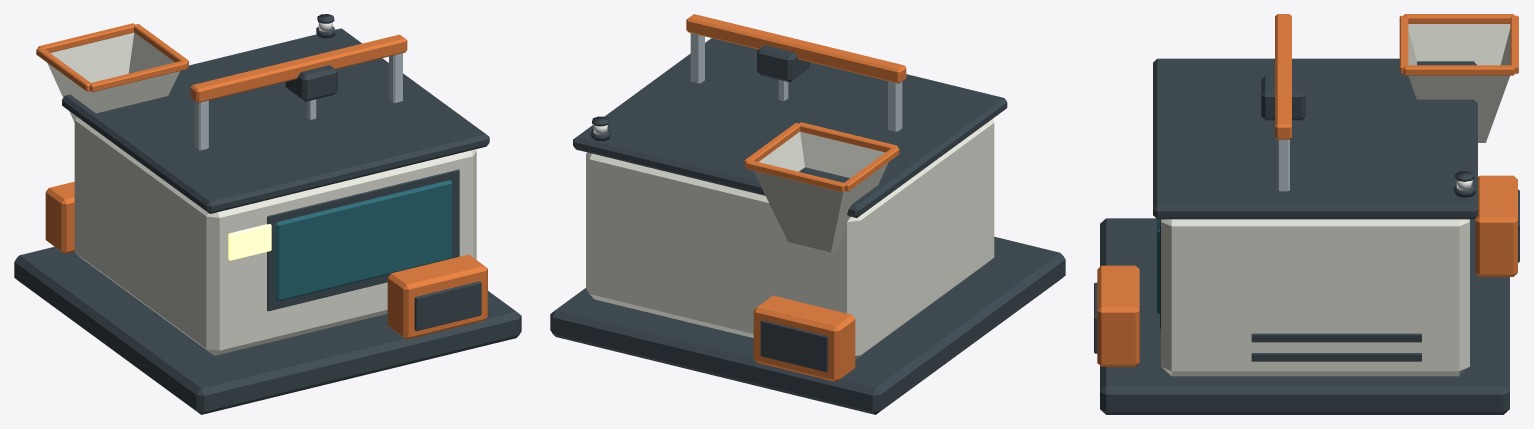
Rendered from fabricator.glb.
The picture shows the model from 3 angles, left to right: view 1: azimuth 30°, elevation 25°; view 2: azimuth 150°, elevation 25°; view 3: azimuth 270°, elevation 25°; orthographic projection. The views are drawn at different scales.
Visible parts, largest first — view 1: fabricator_dark, fabricator_ivory, fabricator_glass, fabricator_orange, fabricator_metal, fabricator_light; view 2: fabricator_dark, fabricator_ivory, fabricator_orange, fabricator_metal; view 3: fabricator_dark, fabricator_ivory, fabricator_orange, fabricator_metal.
Boxes of the visible parts, box(x1,y1,x2,y2) form: fabricator_dark: box(14, 14, 521, 414); fabricator_ivory: box(47, 32, 476, 355); fabricator_glass: box(275, 180, 452, 301); fabricator_orange: box(36, 23, 487, 339); fabricator_metal: box(194, 53, 402, 150); fabricator_light: box(228, 224, 271, 260); fabricator_dark: box(550, 38, 1065, 414); fabricator_ivory: box(586, 119, 994, 359); fabricator_orange: box(686, 14, 906, 381); fabricator_metal: box(690, 33, 902, 131); fabricator_dark: box(1094, 58, 1519, 414); fabricator_ivory: box(1161, 24, 1510, 376); fabricator_orange: box(1097, 14, 1518, 366); fabricator_metal: box(1277, 139, 1289, 191).
Size of the model in its own units: 3.85 by 2.83 by 4.
